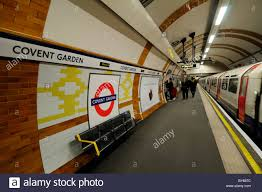London Underground: (91, 82, 116, 116)
